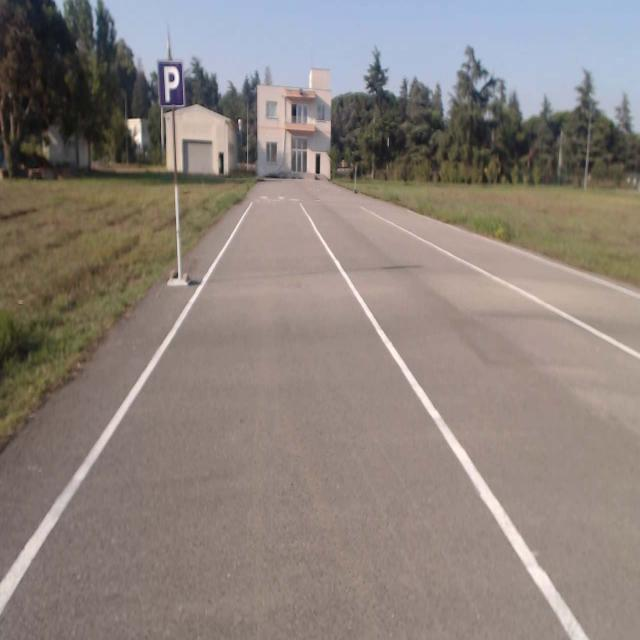park: (157, 61, 183, 107)
